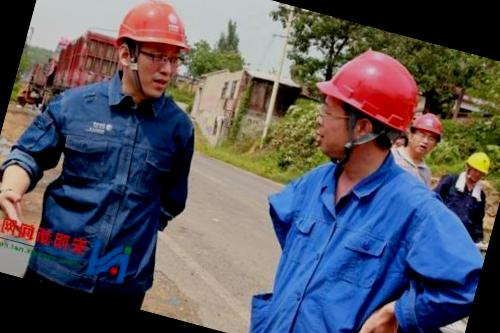person: (237, 34, 493, 333), (0, 0, 227, 310), (413, 141, 500, 255), (383, 106, 456, 194)
